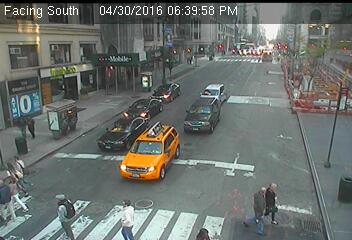neg: (101, 112, 143, 168), (157, 124, 194, 173), (307, 142, 344, 191), (240, 44, 266, 79), (162, 80, 178, 100), (266, 40, 277, 54)
pos: (253, 176, 291, 227), (46, 188, 82, 237), (109, 196, 138, 234), (2, 153, 29, 189), (17, 110, 40, 140), (10, 111, 32, 141)
